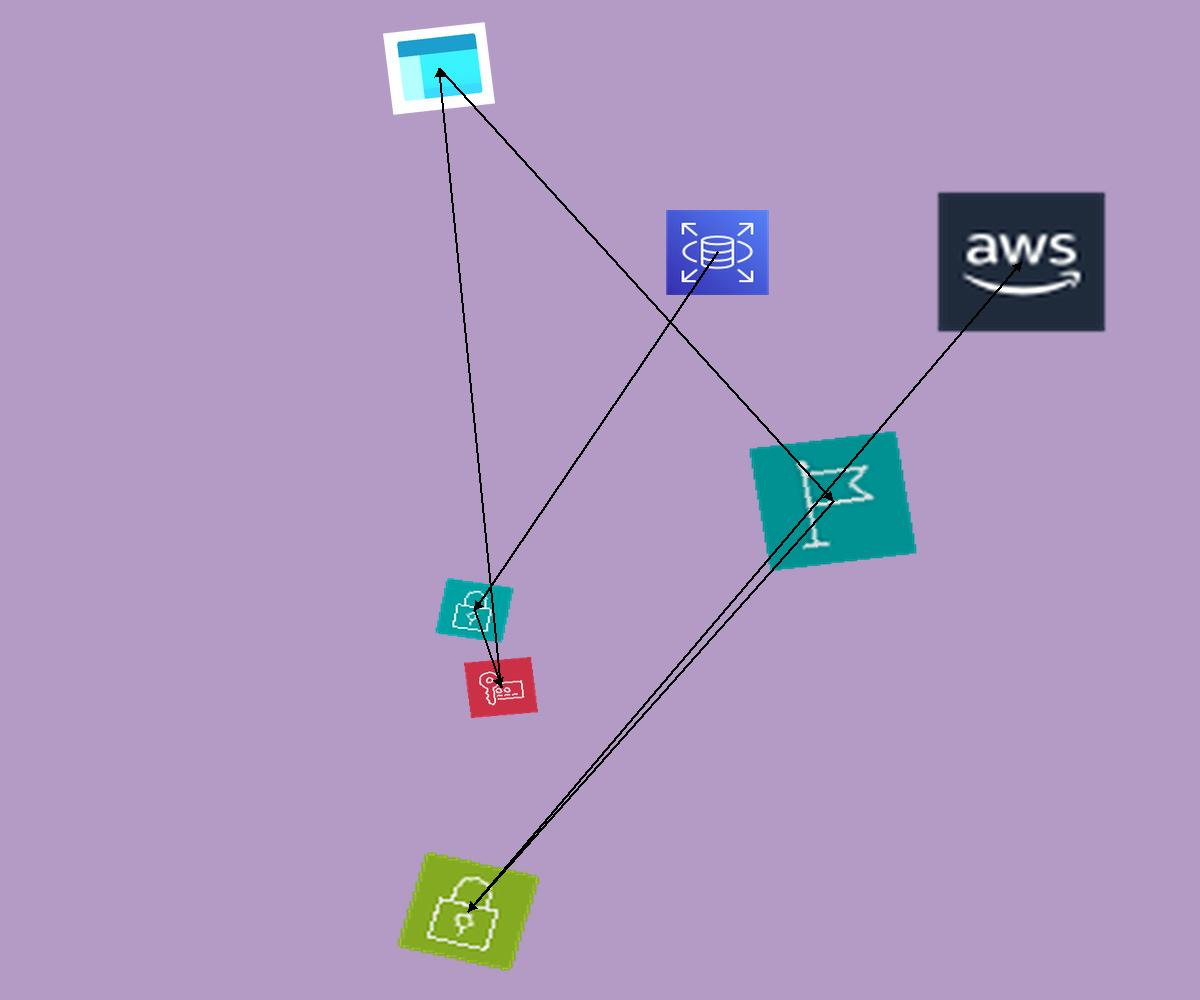AWS-Cloud-logo: (934, 189, 1109, 335)
AWS-Key-Management-Service: (464, 657, 538, 718)
AWS-Private-subnet: (434, 577, 515, 644)
AWS-Public-subnet: (395, 850, 542, 973)
AWS-RDS: (665, 209, 770, 296)
AWS-Region: (748, 430, 918, 572)
Azure_management-portal: (383, 22, 495, 115)
